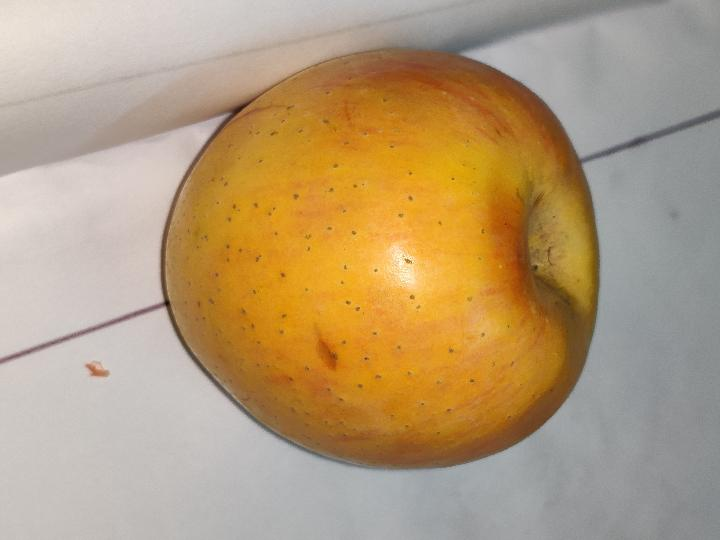apple: (165, 50, 598, 469)
